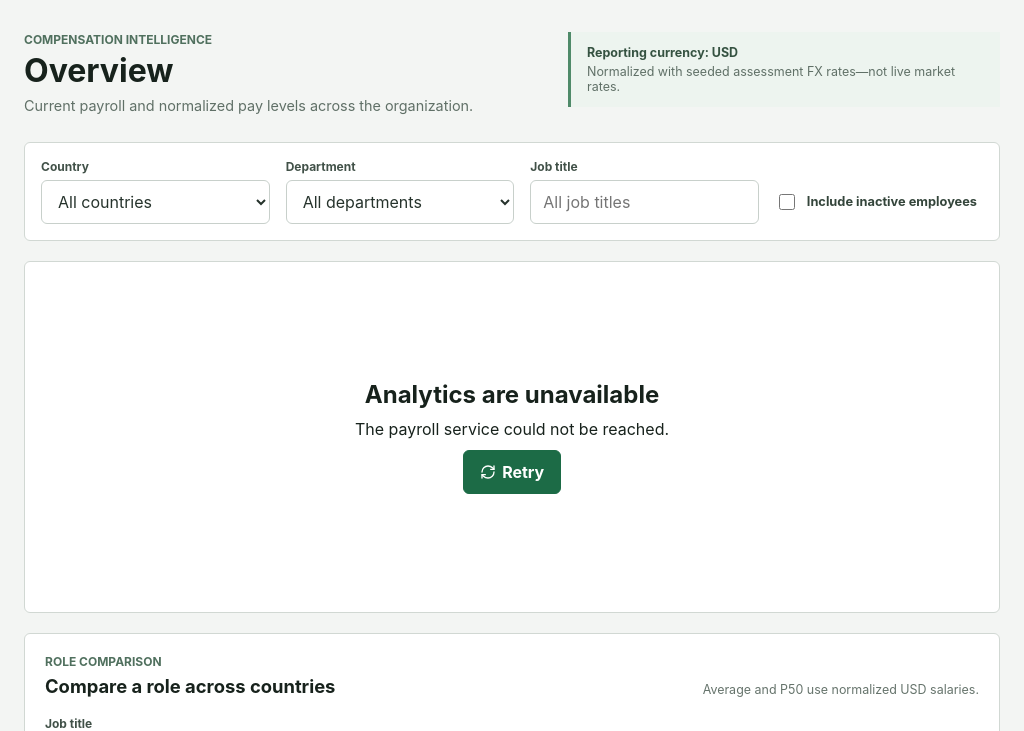
Test case: shows a retryable payroll error
Expected: the message shows "Analytics are unavailable", [365,380,659,409]
Click the button "Retry": coordinates (512, 472) [463,450,561,494]
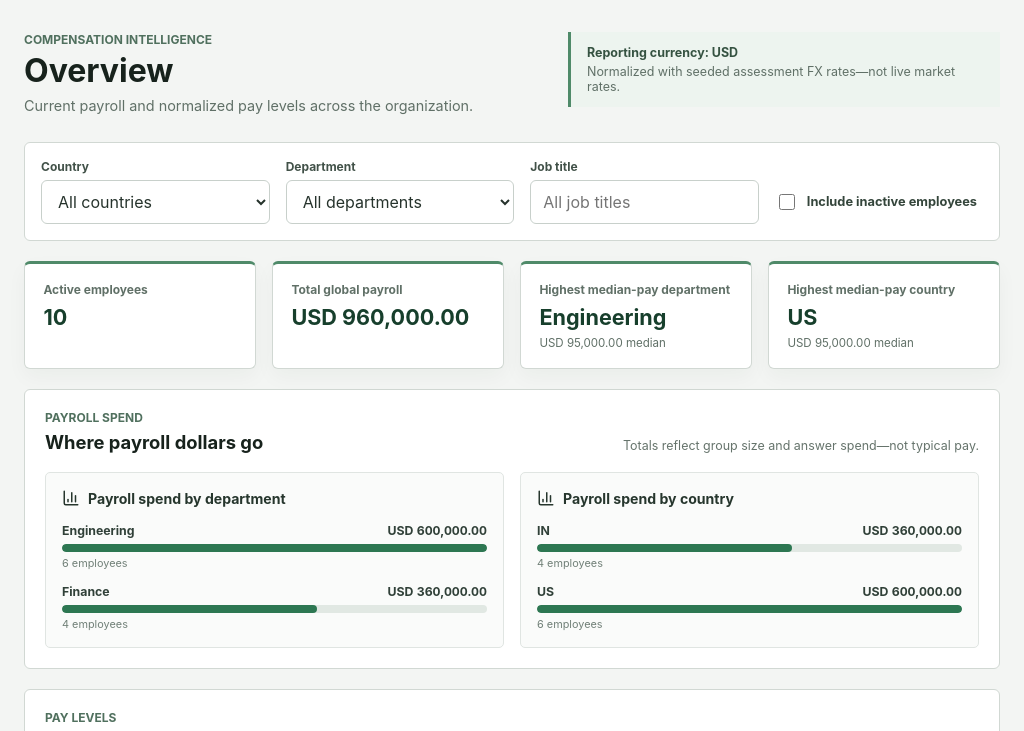
Now the text "USD 960,000.00" is shown, box [291,304,485,330]
